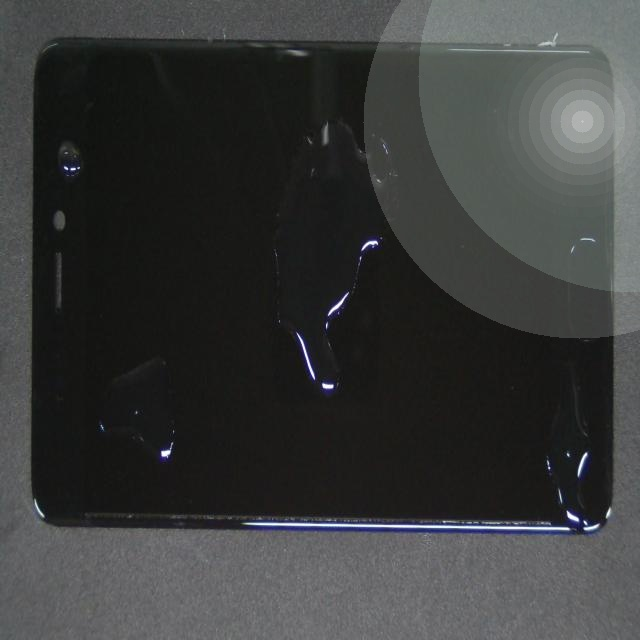oil: (247, 221, 640, 640), (140, 125, 462, 530), (100, 231, 258, 587)
